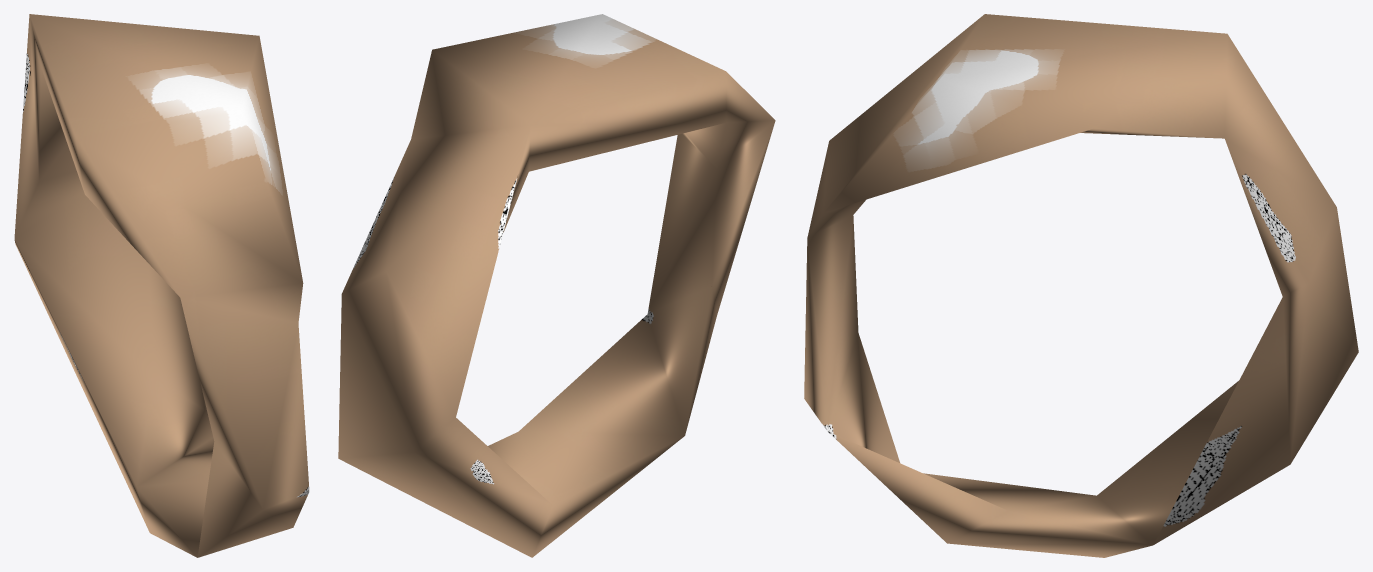
The model's file is timex.glb.
3 renders of one model, left to right at view 1: azimuth 30°, elevation 25°; view 2: azimuth 150°, elevation 25°; view 3: azimuth 270°, elevation 25°, orthographic.
Visible parts, largest first — view 1: watch_timex.001; view 2: watch_timex.001; view 3: watch_timex.001.
Boxes of the visible parts, x1,y1,x2,y2 form: watch_timex.001: (14, 14, 309, 557); watch_timex.001: (338, 14, 775, 557); watch_timex.001: (804, 14, 1358, 557).
Size of the model in its own units: 0.0183 by 0.0359 by 0.0365.
Materials: 1 (1 with a texture image).
